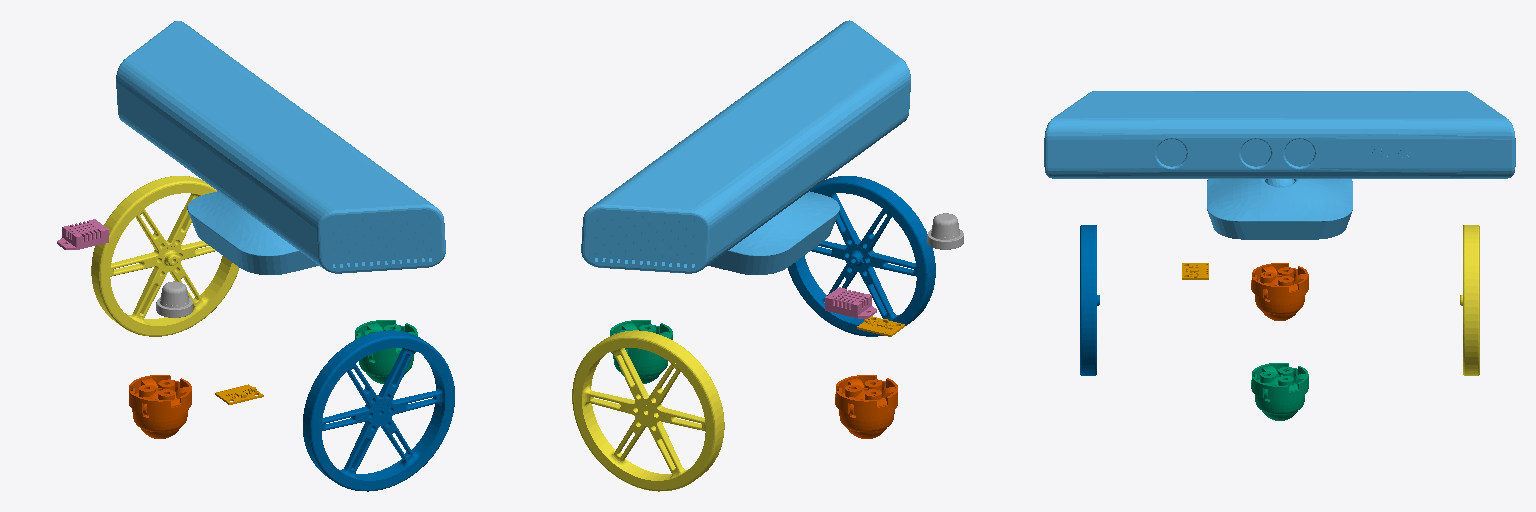
URDF robot description (jacabot):
<?xml version="1.0" encoding="utf-8"?>
<!-- =================================================================================== -->
<!-- |    This document was autogenerated by xacro from jacabot.xacro                  | -->
<!-- |    EDITING THIS FILE BY HAND IS NOT RECOMMENDED                                 | -->
<!-- =================================================================================== -->
<robot name="jacabot">
  <transmission name="left_wheel_joint_tran">
    <type>transmission_interface/SimpleTransmission</type>
    <joint name="left_wheel_joint">
      <hardwareInterface>hardware_interface/EffortJointInterface</hardwareInterface>
    </joint>
    <actuator name="left_wheel_joint_actr">
      <hardwareInterface>hardware_interface/EffortJointInterface</hardwareInterface>
      <mechanicalReduction>1</mechanicalReduction>
    </actuator>
  </transmission>
  <transmission name="right_wheel_joint_tran">
    <type>transmission_interface/SimpleTransmission</type>
    <joint name="right_wheel_joint">
      <hardwareInterface>hardware_interface/EffortJointInterface</hardwareInterface>
    </joint>
    <actuator name="right_wheel_joint_actr">
      <hardwareInterface>hardware_interface/EffortJointInterface</hardwareInterface>
      <mechanicalReduction>1</mechanicalReduction>
    </actuator>
  </transmission>
  <gazebo reference="base_link">
    <material>Gazebo/DarkGrey</material>
  </gazebo>
  <gazebo reference="lidar">
    <material>Gazebo/Grey</material>
  </gazebo>
  <gazebo reference="front_ball_caster">
    <material>Gazebo/DarkGrey</material>
  </gazebo>
  <gazebo reference="left_wheel">
    <material>Gazebo/FlatBlack</material>
  </gazebo>
  <gazebo reference="right_wheel">
    <material>Gazebo/FlatBlack</material>
  </gazebo>
  <gazebo reference="rear_ball_caster">
    <material>Gazebo/DarkGrey</material>
  </gazebo>
  <gazebo reference="temp_sensor">
    <material>Gazebo/Black</material>
  </gazebo>
  <gazebo reference="gas_sensor">
    <material>Gazebo/Black</material>
  </gazebo>
  <gazebo reference="imu">
    <material>Gazebo/Black</material>
  </gazebo>
  <gazebo reference="base_link">
    <mu1>0.2</mu1>
    <mu2>0.2</mu2>
    <selfCollide>true</selfCollide>
    <gravity>true</gravity>
  </gazebo>
  <gazebo reference="lidar">
    <mu1>0.2</mu1>
    <mu2>0.2</mu2>
    <selfCollide>true</selfCollide>
  </gazebo>
  <gazebo reference="front_ball_caster">
    <mu1>0.0</mu1>
    <mu2>0.0</mu2>
    <selfCollide>true</selfCollide>
  </gazebo>
  <gazebo reference="left_wheel">
    <mu1>10.0</mu1>
    <mu2>10.0</mu2>
    <selfCollide>true</selfCollide>
  </gazebo>
  <gazebo reference="right_wheel">
    <mu1>10.0</mu1>
    <mu2>10.0</mu2>
    <selfCollide>true</selfCollide>
  </gazebo>
  <gazebo reference="rear_ball_caster">
    <mu1>0.0</mu1>
    <mu2>0.0</mu2>
    <selfCollide>true</selfCollide>
  </gazebo>
  <gazebo reference="temp_sensor">
    <mu1>0.2</mu1>
    <mu2>0.2</mu2>
    <selfCollide>true</selfCollide>
  </gazebo>
  <gazebo reference="gas_sensor">
    <mu1>0.2</mu1>
    <mu2>0.2</mu2>
    <selfCollide>true</selfCollide>
  </gazebo>
  <gazebo reference="imu">
    <mu1>0.2</mu1>
    <mu2>0.2</mu2>
    <selfCollide>true</selfCollide>
  </gazebo>
  <!-- control plugin -->
  <gazebo>
    <plugin filename="libgazebo_ros_control.so" name="control"/>
  </gazebo>
  <!-- differential driver plugin -->
  <gazebo>
    <plugin filename="libgazebo_ros_diff_drive.so" name="differential_drive_controller">
      <updateRate>100.0</updateRate>
      <leftJoint>left_wheel_joint</leftJoint>
      <rightJoint>right_wheel_joint</rightJoint>
      <wheelSeparation>0.22</wheelSeparation>
      <wheelDiameter>0.09</wheelDiameter>
      <wheelAcceleration>1.0</wheelAcceleration>
      <wheelTorque>0.127</wheelTorque>
      <commandTopic>cmd_vel</commandTopic>
      <odometryTopic>odom</odometryTopic>
      <odometryFrame>odom</odometryFrame>
      <robotBaseFrame>base_footprint</robotBaseFrame>
      <odometrySource>1</odometrySource>
      <publishWheelTF>true</publishWheelTF>
      <publishOdom>true</publishOdom>
      <publishWheelJointState>true</publishWheelJointState>
      <legacyMode>false</legacyMode>
    </plugin>
  </gazebo>
  <!-- lidar plugin -->
  <gazebo reference="lidar">
    <sensor name="lidar" type="depth">
      <visualize>true</visualize>
      <pose>0 0 0 0 0 0</pose>
      <update_rate>100.0</update_rate>
      <camera>
        <horizontal_fov>1.047198</horizontal_fov>
        <image>
          <width>640</width>
          <height>480</height>
          <format>R8G8B8</format>
        </image>
        <clip>
          <near>0.05</near>
          <far>3</far>
        </clip>
      </camera>
      <plugin filename="libgazebo_ros_openni_kinect.so" name="lidar_controller">
        <baseline>0.2</baseline>
        <alwaysOn>true</alwaysOn>
        <updateRate>0.0</updateRate>
        <cameraName>lidar</cameraName>
        <imageTopicName>lidar/color/image_raw</imageTopicName>
        <cameraInfoTopicName>lidar/color/camera_info</cameraInfoTopicName>
        <depthImageTopicName>lidar/depth/image_raw</depthImageTopicName>
        <depthImageInfoTopicName>lidar/depth/camera_info</depthImageInfoTopicName>
        <pointCloudTopicName>lidar/depth/points</pointCloudTopicName>
        <frameName>lidar</frameName>
        <pointCloudCutoff>0.5</pointCloudCutoff>
        <pointCloudCutoffMax>3.0</pointCloudCutoffMax>
        <distortionK1>0.00000001</distortionK1>
        <distortionK2>0.00000001</distortionK2>
        <distortionK3>0.00000001</distortionK3>
        <distortionT1>0.00000001</distortionT1>
        <distortionT2>0.00000001</distortionT2>
        <CxPrime>0</CxPrime>
        <Cx>0</Cx>
        <Cy>0</Cy>
        <focalLength>0</focalLength>
        <hackBaseline>0</hackBaseline>
      </plugin>
    </sensor>
  </gazebo>
  <!-- imu plugin -->
  <gazebo reference="imu">
    <gravity>true</gravity>
    <sensor name="imu_sensor" type="imu">
      <always_on>true</always_on>
      <update_rate>100.0</update_rate>
      <visualize>true</visualize>
      <topic>__default_topic__</topic>
      <plugin filename="libgazebo_ros_imu_sensor.so" name="imu_plugin">
        <topicName>imu</topicName>
        <bodyName>imu</bodyName>
        <updateRateHZ>10.0</updateRateHZ>
        <gaussianNoise>0.0</gaussianNoise>
        <xyzOffset>0 0 0</xyzOffset>
        <rpyOffset>0 0 0</rpyOffset>
        <frameName>imu</frameName>
        <initialOrientationAsReference>false</initialOrientationAsReference>
      </plugin>
      <pose>0 0 0 0 0 0</pose>
    </sensor>
  </gazebo>
  <link name="base_link">
    <inertial>
      <origin rpy="0 0 0" xyz="0.003579933198148806 -8.613056205326139e-05 0.0653504954185309"/>
      <mass value="1.1383292597374606"/>
      <inertia ixx="0.004833" ixy="2e-06" ixz="6.3e-05" iyy="0.005208" iyz="-2e-06" izz="0.008492"/>
    </inertial>
    <visual>
      <origin rpy="0 0 0" xyz="0 0 0"/>
      <geometry>
        <mesh filename="package://jacabot_description/meshes/base_link.stl" scale="0.001 0.001 0.001"/>
      </geometry>
      <!-- <material name="silver"/> -->
    </visual>
    <collision>
      <origin rpy="0 0 0" xyz="0 0 0"/>
      <geometry>
        <mesh filename="package://jacabot_description/meshes/base_link.stl" scale="0.001 0.001 0.001"/>
      </geometry>
    </collision>
  </link>
  <link name="lidar">
    <inertial>
      <origin rpy="0 0 0" xyz="-0.002250102447321716 4.500114002476962e-05 0.045072048933539444"/>
      <mass value="0.6270522917751937"/>
      <inertia ixx="0.002984" ixy="-1e-06" ixz="3e-06" iyy="0.000398" iyz="-0.0" izz="0.002963"/>
    </inertial>
    <visual>
      <origin rpy="0 0 0" xyz="-0.0 -0.0 -0.10025"/>
      <geometry>
        <mesh filename="package://jacabot_description/meshes/lidar.stl" scale="0.001 0.001 0.001"/>
      </geometry>
      <!-- <material name="silver"/> -->
    </visual>
    <collision>
      <origin rpy="0 0 0" xyz="-0.0 -0.0 -0.10025"/>
      <geometry>
        <mesh filename="package://jacabot_description/meshes/lidar.stl" scale="0.001 0.001 0.001"/>
      </geometry>
    </collision>
  </link>
  <link name="front_ball_caster">
    <inertial>
      <origin rpy="0 0 0" xyz="0.07000005407994327 1.3527168224669594e-07 -0.01878123512291732"/>
      <mass value="0.015977116537245855"/>
      <inertia ixx="2e-06" ixy="-0.0" ixz="-0.0" iyy="2e-06" iyz="-0.0" izz="2e-06"/>
    </inertial>
    <visual>
      <origin rpy="0 0 0" xyz="-0.0 -0.0 -0.03525"/>
      <geometry>
        <mesh filename="package://jacabot_description/meshes/front_ball_caster.stl" scale="0.001 0.001 0.001"/>
      </geometry>
      <!-- <material name="silver"/> -->
    </visual>
    <collision>
      <origin rpy="0 0 0" xyz="-0.0 -0.0 -0.03525"/>
      <geometry>
        <mesh filename="package://jacabot_description/meshes/front_ball_caster.stl" scale="0.001 0.001 0.001"/>
      </geometry>
    </collision>
  </link>
  <link name="left_wheel">
    <inertial>
      <origin rpy="0 0 0" xyz="-7.914086335603088e-08 -0.0025244883476263635 6.907443579826089e-07"/>
      <mass value="0.023584783929219873"/>
      <inertia ixx="1.7e-05" ixy="-0.0" ixz="0.0" iyy="3.4e-05" iyz="0.0" izz="1.7e-05"/>
    </inertial>
    <visual>
      <origin rpy="0 0 0" xyz="0.0 -0.116 -0.04525"/>
      <geometry>
        <mesh filename="package://jacabot_description/meshes/left_wheel.stl" scale="0.001 0.001 0.001"/>
      </geometry>
      <!-- <material name="silver"/> -->
    </visual>
    <collision>
      <origin rpy="0 0 0" xyz="0.0 -0.116 -0.04525"/>
      <geometry>
        <mesh filename="package://jacabot_description/meshes/left_wheel.stl" scale="0.001 0.001 0.001"/>
      </geometry>
    </collision>
  </link>
  <link name="right_wheel">
    <inertial>
      <origin rpy="0 0 0" xyz="7.547873737578925e-08 0.0025244883476279456 6.907443579687311e-07"/>
      <mass value="0.023584783929219897"/>
      <inertia ixx="1.7e-05" ixy="-0.0" ixz="-0.0" iyy="3.4e-05" iyz="-0.0" izz="1.7e-05"/>
    </inertial>
    <visual>
      <origin rpy="0 0 0" xyz="0.0 0.116 -0.04525"/>
      <geometry>
        <mesh filename="package://jacabot_description/meshes/right_wheel.stl" scale="0.001 0.001 0.001"/>
      </geometry>
      <!-- <material name="silver"/> -->
    </visual>
    <collision>
      <origin rpy="0 0 0" xyz="0.0 0.116 -0.04525"/>
      <geometry>
        <mesh filename="package://jacabot_description/meshes/right_wheel.stl" scale="0.001 0.001 0.001"/>
      </geometry>
    </collision>
  </link>
  <link name="rear_ball_caster">
    <inertial>
      <origin rpy="0 0 0" xyz="-0.07000005221956881 1.339072818318243e-07 -0.01878121559788453"/>
      <mass value="0.015977143718386187"/>
      <inertia ixx="2e-06" ixy="0.0" ixz="0.0" iyy="2e-06" iyz="-0.0" izz="2e-06"/>
    </inertial>
    <visual>
      <origin rpy="0 0 0" xyz="-0.0 -0.0 -0.03525"/>
      <geometry>
        <mesh filename="package://jacabot_description/meshes/rear_ball_caster.stl" scale="0.001 0.001 0.001"/>
      </geometry>
      <!-- <material name="silver"/> -->
    </visual>
    <collision>
      <origin rpy="0 0 0" xyz="-0.0 -0.0 -0.03525"/>
      <geometry>
        <mesh filename="package://jacabot_description/meshes/rear_ball_caster.stl" scale="0.001 0.001 0.001"/>
      </geometry>
    </collision>
  </link>
  <link name="temp_sensor">
    <inertial>
      <origin rpy="0 0 0" xyz="-0.08805017233647947 0.0499890630824071 0.0030919995294121094"/>
      <mass value="0.010087111752173031"/>
      <inertia ixx="0.0" ixy="-0.0" ixz="-0.0" iyy="1e-06" iyz="-0.0" izz="1e-06"/>
    </inertial>
    <visual>
      <origin rpy="0 0 0" xyz="-0.0 -0.0 -0.10025"/>
      <geometry>
        <mesh filename="package://jacabot_description/meshes/temp_sensor.stl" scale="0.001 0.001 0.001"/>
      </geometry>
      <!-- <material name="silver"/> -->
    </visual>
    <collision>
      <origin rpy="0 0 0" xyz="-0.0 -0.0 -0.10025"/>
      <geometry>
        <mesh filename="package://jacabot_description/meshes/temp_sensor.stl" scale="0.001 0.001 0.001"/>
      </geometry>
    </collision>
  </link>
  <link name="gas_sensor">
    <inertial>
      <origin rpy="0 0 0" xyz="-0.09000000000000005 -0.050000000000000024 0.0060283046418692365"/>
      <mass value="0.018329019530868546"/>
      <inertia ixx="1e-06" ixy="-0.0" ixz="0.0" iyy="1e-06" iyz="-0.0" izz="1e-06"/>
    </inertial>
    <visual>
      <origin rpy="0 0 0" xyz="-0.0 -0.0 -0.10025"/>
      <geometry>
        <mesh filename="package://jacabot_description/meshes/gas_sensor.stl" scale="0.001 0.001 0.001"/>
      </geometry>
      <!-- <material name="silver"/> -->
    </visual>
    <collision>
      <origin rpy="0 0 0" xyz="-0.0 -0.0 -0.10025"/>
      <geometry>
        <mesh filename="package://jacabot_description/meshes/gas_sensor.stl" scale="0.001 0.001 0.001"/>
      </geometry>
    </collision>
  </link>
  <link name="imu">
    <inertial>
      <origin rpy="0 0 0" xyz="-0.04981761579668389 -0.050053964360055596 0.0006843828366709728"/>
      <mass value="0.000732526136495622"/>
      <inertia ixx="0.0" ixy="0.0" ixz="-0.0" iyy="0.0" iyz="0.0" izz="0.0"/>
    </inertial>
    <visual>
      <origin rpy="0 0 0" xyz="-0.0 0.0 -0.04025"/>
      <geometry>
        <mesh filename="package://jacabot_description/meshes/imu.stl" scale="0.001 0.001 0.001"/>
      </geometry>
      <!-- <material name="silver"/> -->
    </visual>
    <collision>
      <origin rpy="0 0 0" xyz="-0.0 0.0 -0.04025"/>
      <geometry>
        <mesh filename="package://jacabot_description/meshes/imu.stl" scale="0.001 0.001 0.001"/>
      </geometry>
    </collision>
  </link>
  <joint name="lidar_fix" type="fixed">
    <origin rpy="0 0 0" xyz="0.0 0.0 0.10025"/>
    <parent link="base_link"/>
    <child link="lidar"/>
  </joint>
  <joint name="front_caster_fix" type="fixed">
    <origin rpy="0 0 0" xyz="0.0 0.0 0.03525"/>
    <parent link="base_link"/>
    <child link="front_ball_caster"/>
  </joint>
  <joint name="left_wheel_joint" type="continuous">
    <origin rpy="0 0 0" xyz="0.0 0.116 0.04525"/>
    <parent link="base_link"/>
    <child link="left_wheel"/>
    <axis xyz="0.0 1.0 -0.0"/>
  </joint>
  <joint name="right_wheel_joint" type="continuous">
    <origin rpy="0 0 0" xyz="0.0 -0.116 0.04525"/>
    <parent link="base_link"/>
    <child link="right_wheel"/>
    <axis xyz="-0.0 1.0 -0.0"/>
  </joint>
  <joint name="rear_caster_fix" type="fixed">
    <origin rpy="0 0 0" xyz="0.0 0.0 0.03525"/>
    <parent link="base_link"/>
    <child link="rear_ball_caster"/>
  </joint>
  <joint name="temp_sensor_fix" type="fixed">
    <origin rpy="0 0 0" xyz="0.0 0.0 0.10025"/>
    <parent link="base_link"/>
    <child link="temp_sensor"/>
  </joint>
  <joint name="gas_sensor_fix" type="fixed">
    <origin rpy="0 0 0" xyz="0.0 0.0 0.10025"/>
    <parent link="base_link"/>
    <child link="gas_sensor"/>
  </joint>
  <joint name="imu_fix" type="fixed">
    <origin rpy="0 0 0" xyz="0.0 0.0 0.04025"/>
    <parent link="base_link"/>
    <child link="imu"/>
  </joint>
</robot>

--- What the picture shows (computed from the rendered views, not written in the file) ---
3 views of the same robot in one strip: view 1: azimuth 30°, elevation 25°; view 2: azimuth 150°, elevation 25°; view 3: azimuth 270°, elevation 25° (orthographic).
Robot: jacabot — 9 links, 8 joints (2 continuous, 6 fixed); root link base_link; default pose: every joint at zero.
Visible links, largest first — view 1: lidar, right_wheel, left_wheel, rear_ball_caster, front_ball_caster, temp_sensor, gas_sensor, imu; view 2: lidar, left_wheel, right_wheel, rear_ball_caster, front_ball_caster, temp_sensor, gas_sensor, imu; view 3: lidar, front_ball_caster, rear_ball_caster, left_wheel, right_wheel.
Boxes of the visible links, x1,y1,x2,y2 form: lidar: [116, 21, 445, 274]; right_wheel: [303, 330, 454, 491]; left_wheel: [91, 176, 238, 336]; rear_ball_caster: [129, 375, 191, 438]; front_ball_caster: [355, 320, 417, 383]; temp_sensor: [57, 219, 109, 249]; gas_sensor: [156, 281, 192, 317]; imu: [215, 384, 263, 404]; lidar: [581, 20, 910, 274]; left_wheel: [572, 330, 724, 491]; right_wheel: [788, 176, 935, 336]; rear_ball_caster: [835, 375, 897, 438]; front_ball_caster: [610, 320, 672, 383]; temp_sensor: [824, 287, 876, 318]; gas_sensor: [927, 213, 963, 249]; imu: [857, 316, 904, 336]; lidar: [1044, 91, 1515, 239]; front_ball_caster: [1251, 363, 1308, 420]; rear_ball_caster: [1251, 263, 1308, 320]; left_wheel: [1460, 225, 1479, 375]; right_wheel: [1080, 225, 1099, 375].
Size in the robot's own frame: 0.1896 by 0.2794 by 0.1718 metres.
Meshes: 9 distinct files referenced, 8 mesh visuals loaded (8 binary STL); not drawn: 1 (reference not matched to a file when rendering).